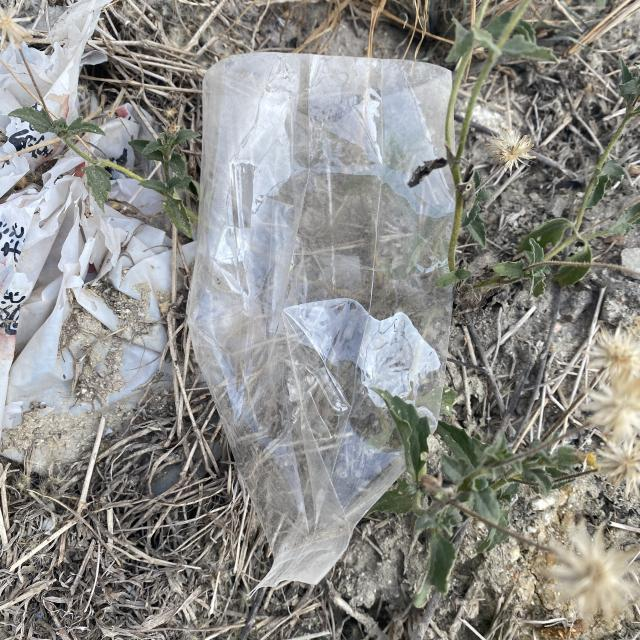Single-layer Plastic: (188, 52, 457, 595)
